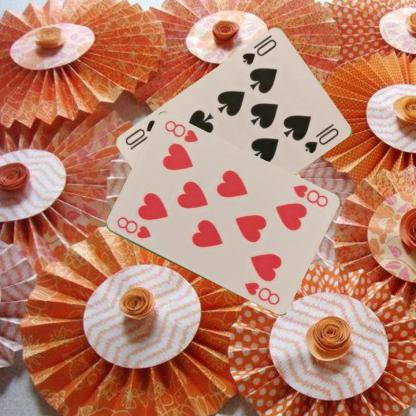10s: (239, 36, 278, 67)
8h: (290, 182, 329, 209), (114, 214, 152, 240)
